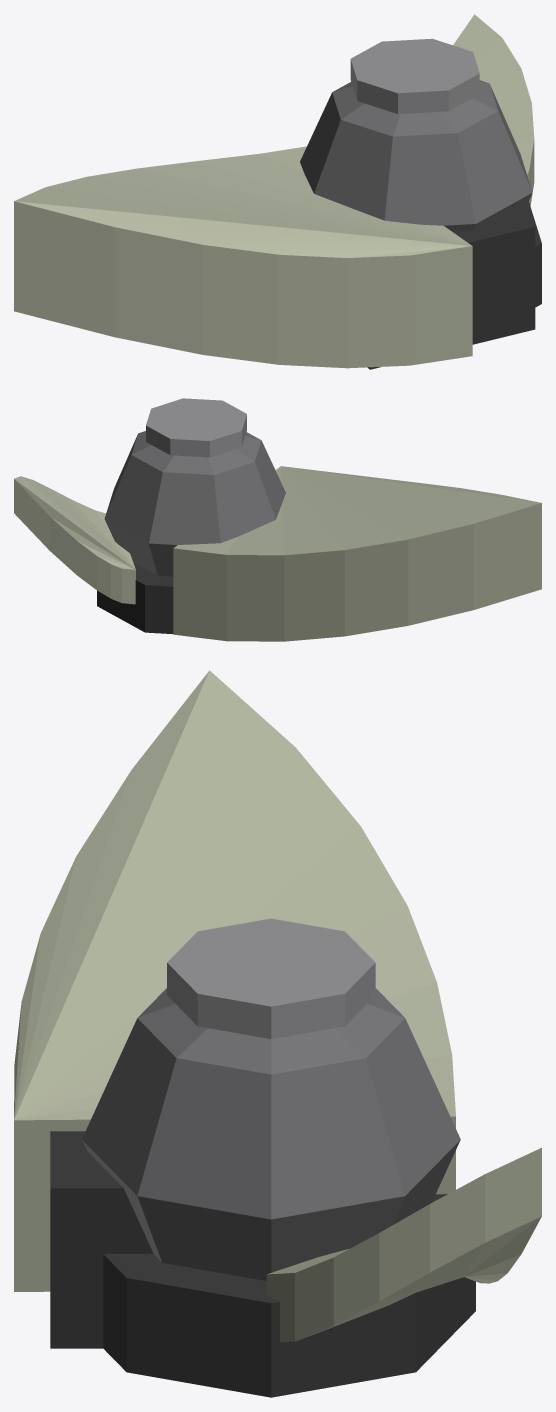
File: exostrider_leg_c.obj
3 renders of one model, top to bottom at view 1: azimuth 30°, elevation 25°; view 2: azimuth 150°, elevation 25°; view 3: azimuth 270°, elevation 25°, orthographic. The views are drawn at different scales.
Visible parts, largest first — view 1: exostrider_leg_c_0, exostrider_leg_c_3, exostrider_leg_c_4, exostrider_leg_c_1, exostrider_leg_c_5, exostrider_leg_c_2; view 2: exostrider_leg_c_0, exostrider_leg_c_3, exostrider_leg_c_5, exostrider_leg_c_4, exostrider_leg_c_2; view 3: exostrider_leg_c_0, exostrider_leg_c_3, exostrider_leg_c_2, exostrider_leg_c_5, exostrider_leg_c_4, exostrider_leg_c_1.
Part boxes in pixels (left/top/right/bottom): exostrider_leg_c_0: left=14, top=146, right=472, bottom=368; exostrider_leg_c_3: left=300, top=80, right=532, bottom=231; exostrider_leg_c_4: left=350, top=38, right=479, bottom=114; exostrider_leg_c_1: left=367, top=209, right=535, bottom=369; exostrider_leg_c_5: left=453, top=14, right=534, bottom=205; exostrider_leg_c_2: left=521, top=201, right=541, bottom=307; exostrider_leg_c_0: left=173, top=466, right=541, bottom=641; exostrider_leg_c_3: left=104, top=431, right=285, bottom=576; exostrider_leg_c_5: left=14, top=476, right=135, bottom=604; exostrider_leg_c_4: left=146, top=398, right=246, bottom=457; exostrider_leg_c_2: left=97, top=562, right=173, bottom=633; exostrider_leg_c_0: left=14, top=670, right=455, bottom=1291; exostrider_leg_c_3: left=82, top=988, right=460, bottom=1280; exostrider_leg_c_2: left=103, top=1194, right=475, bottom=1397; exostrider_leg_c_5: left=266, top=1147, right=541, bottom=1342; exostrider_leg_c_4: left=167, top=918, right=375, bottom=1039; exostrider_leg_c_1: left=50, top=1131, right=153, bottom=1348.
Bounding box in the file's own units: 1.65 × 0.609 × 0.8359.
